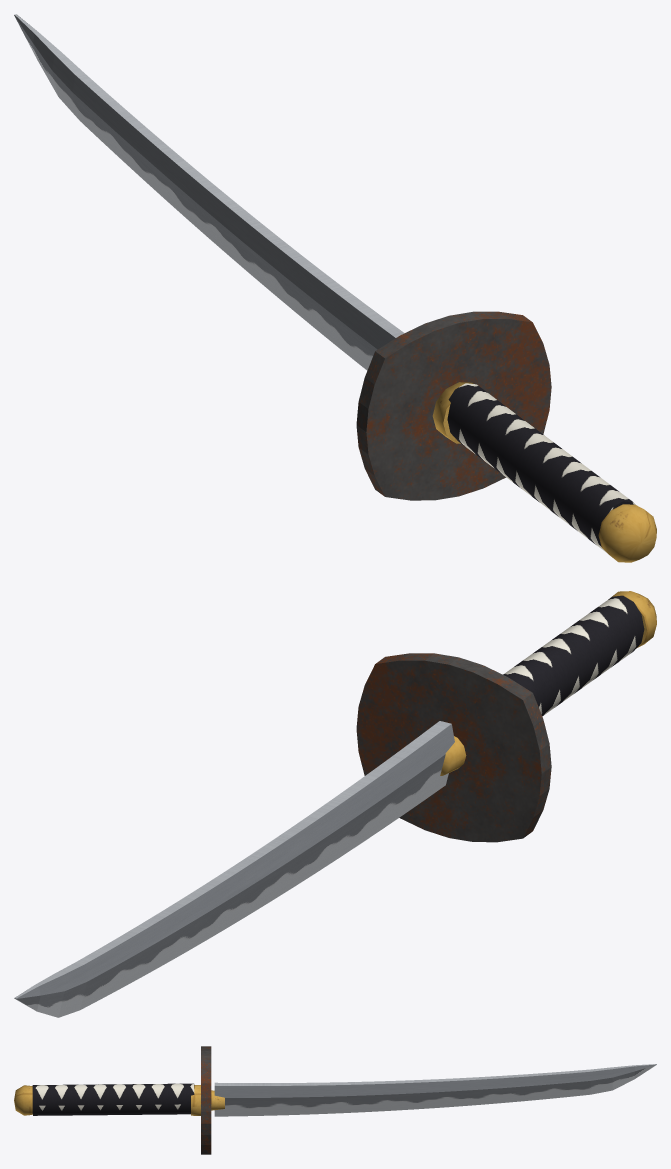
Rendered from HO_Weapon_TemperedKatana.fbx.
3 views of the same model, one above another, from view 1: azimuth 30°, elevation 25°; view 2: azimuth 150°, elevation 25°; view 3: azimuth 270°, elevation 25° (orthographic). The views are drawn at different scales.
Parts seen in each view (by area): view 1: HO_Weapon_TemperedKatana__Iron_Wrought, HO_Weapon_TemperedKatana__Steel_Blade, HO_Weapon_TemperedKatana__Tsuka_Wrap, HO_Weapon_TemperedKatana__Gold_Leaf; view 2: HO_Weapon_TemperedKatana__Iron_Wrought, HO_Weapon_TemperedKatana__Steel_Blade, HO_Weapon_TemperedKatana__Tsuka_Wrap, HO_Weapon_TemperedKatana__Gold_Leaf; view 3: HO_Weapon_TemperedKatana__Steel_Blade, HO_Weapon_TemperedKatana__Tsuka_Wrap, HO_Weapon_TemperedKatana__Iron_Wrought, HO_Weapon_TemperedKatana__Gold_Leaf.
Boxes of the visible parts, x1,y1,x2,y2 form: HO_Weapon_TemperedKatana__Iron_Wrought: (356,311,551,500); HO_Weapon_TemperedKatana__Steel_Blade: (14,14,404,370); HO_Weapon_TemperedKatana__Tsuka_Wrap: (447,383,635,552); HO_Weapon_TemperedKatana__Gold_Leaf: (432,382,656,562); HO_Weapon_TemperedKatana__Iron_Wrought: (356,653,551,842); HO_Weapon_TemperedKatana__Steel_Blade: (14,721,454,1017); HO_Weapon_TemperedKatana__Tsuka_Wrap: (503,595,644,716); HO_Weapon_TemperedKatana__Gold_Leaf: (440,591,656,775); HO_Weapon_TemperedKatana__Steel_Blade: (214,1064,656,1116); HO_Weapon_TemperedKatana__Tsuka_Wrap: (32,1083,194,1115); HO_Weapon_TemperedKatana__Iron_Wrought: (201,1046,211,1154); HO_Weapon_TemperedKatana__Gold_Leaf: (14,1085,224,1115).
Size of the model in its own units: 0.646 by 0.578 by 3.78.
